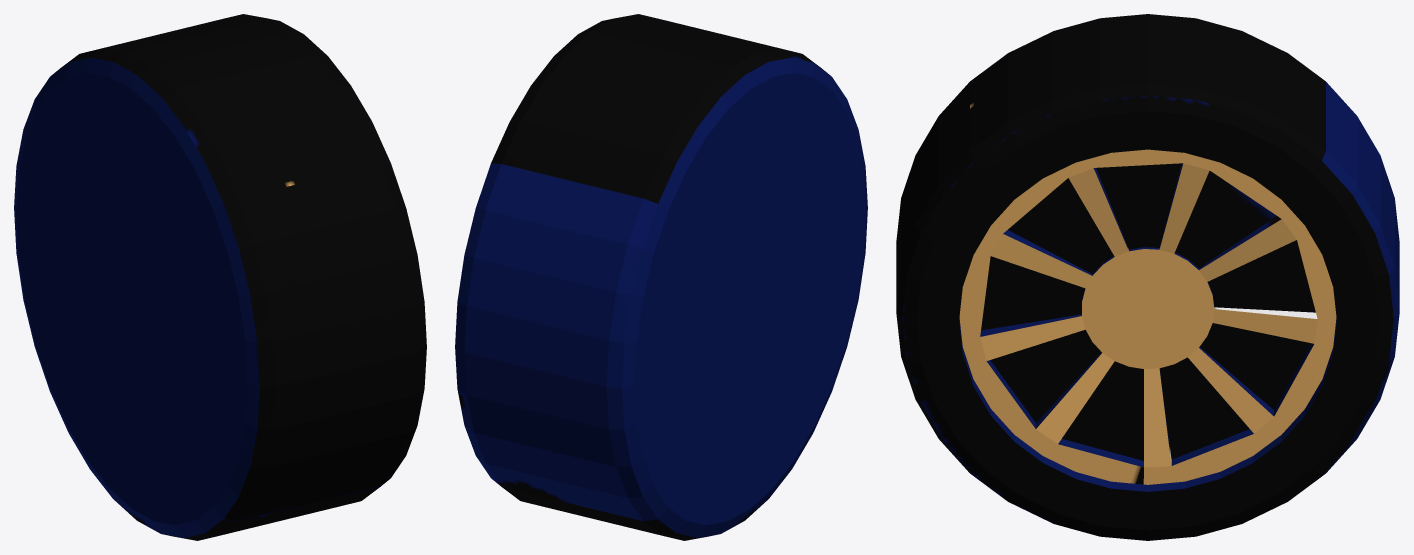
The model's file is carTire.obj.
3 views of the same model, side by side, from view 1: azimuth 30°, elevation 25°; view 2: azimuth 150°, elevation 25°; view 3: azimuth 270°, elevation 25° (orthographic).
Visible parts, largest first — view 1: s15-body.006; view 2: s15-body.006; view 3: s15-body.006.
Boxes of the visible parts, x1=… form: s15-body.006: x1=14, y1=14, x2=426, y2=540; s15-body.006: x1=455, y1=14, x2=867, y2=540; s15-body.006: x1=896, y1=14, x2=1399, y2=540.
Bounding box in the file's own units: 0.269 × 0.6616 × 0.6616.
